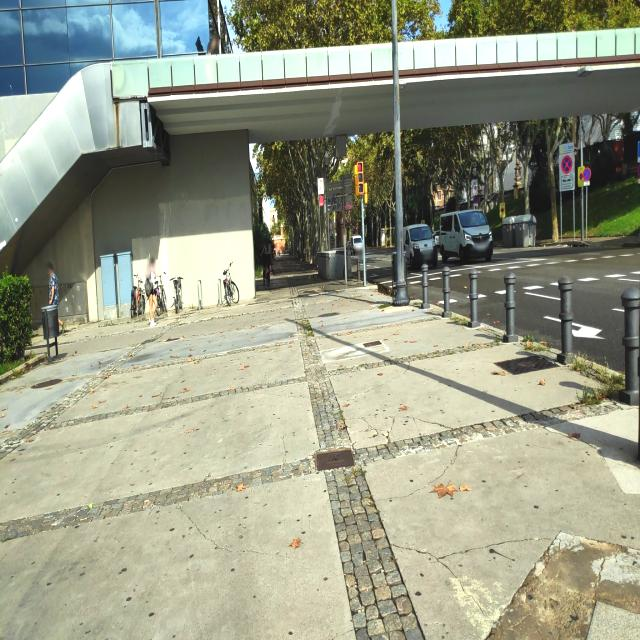bike: (220, 268, 240, 306), (130, 278, 147, 321), (169, 274, 186, 312)
car: (438, 209, 494, 263), (400, 223, 438, 269), (349, 234, 365, 255)
